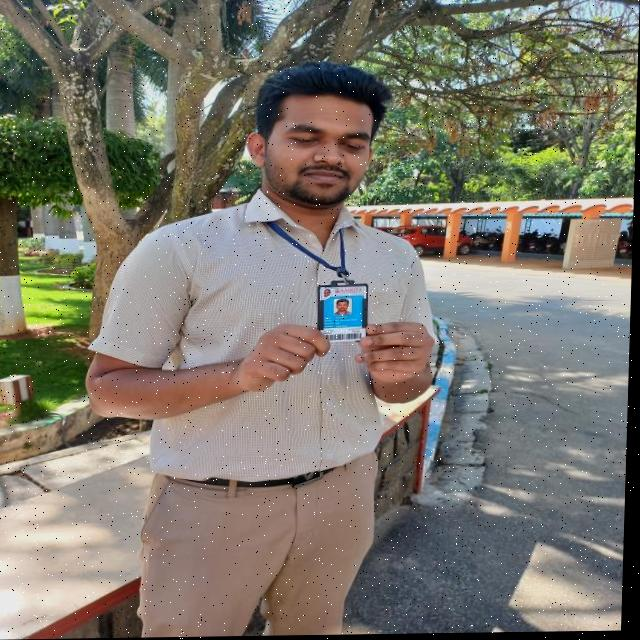id_card: (258, 212, 377, 346)
